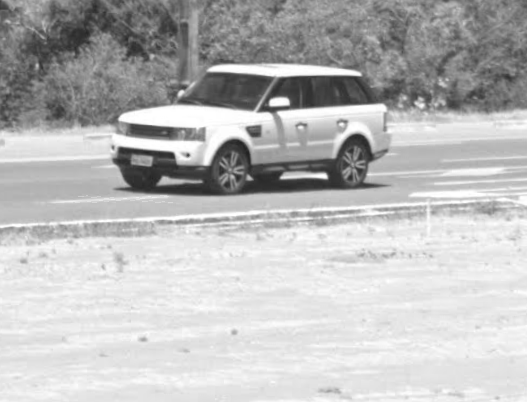car: (107, 61, 394, 197)
